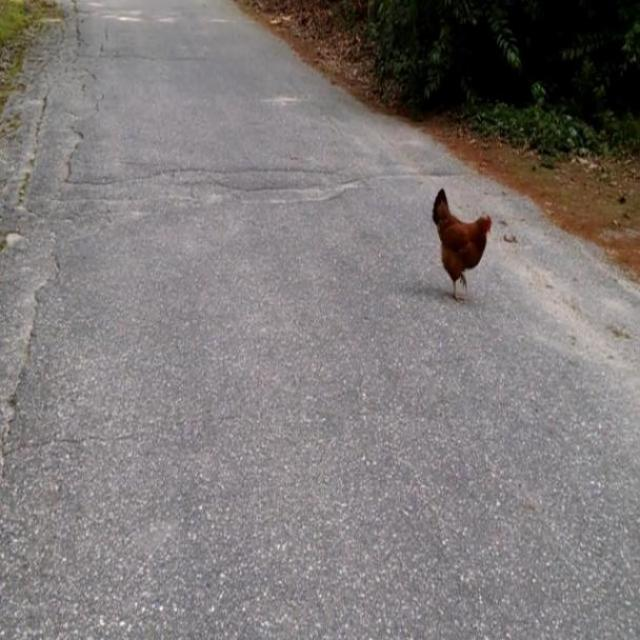Chicken: (431, 188, 493, 304)
